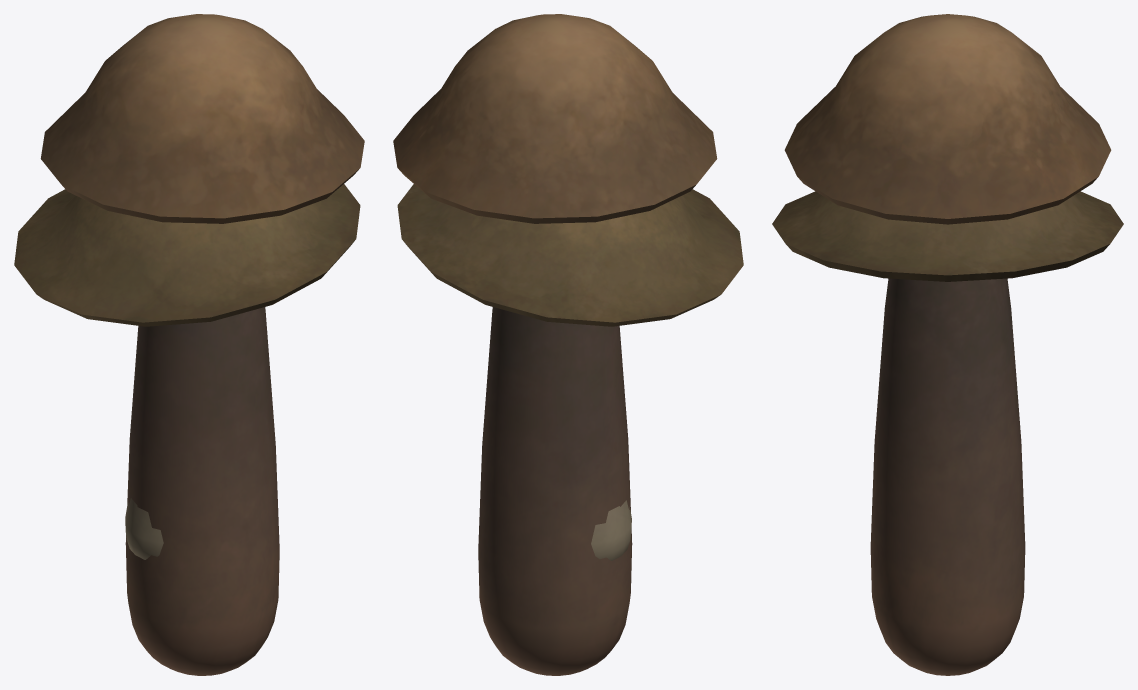
File: SM_Environment_Mushroom_Singles.fbx
3 renders of one model, left to right at view 1: azimuth 30°, elevation 25°; view 2: azimuth 150°, elevation 25°; view 3: azimuth 270°, elevation 25°, orthographic.
Visible parts, largest first — view 1: Mushroom_normal1, Mushroom_bendy1; view 2: Mushroom_normal1, Mushroom_bendy1; view 3: Mushroom_normal1, Mushroom_bendy1.
Boxes of the visible parts, x1,y1,x2,y2 form: Mushroom_normal1: (40,14,364,675); Mushroom_bendy1: (14,184,360,559); Mushroom_normal1: (393,14,717,675); Mushroom_bendy1: (397,184,743,560); Mushroom_normal1: (784,14,1111,675); Mushroom_bendy1: (772,191,1123,281).
Size of the model in its own units: 17.61 by 35.35 by 17.44.
1 material, 1 textured.
